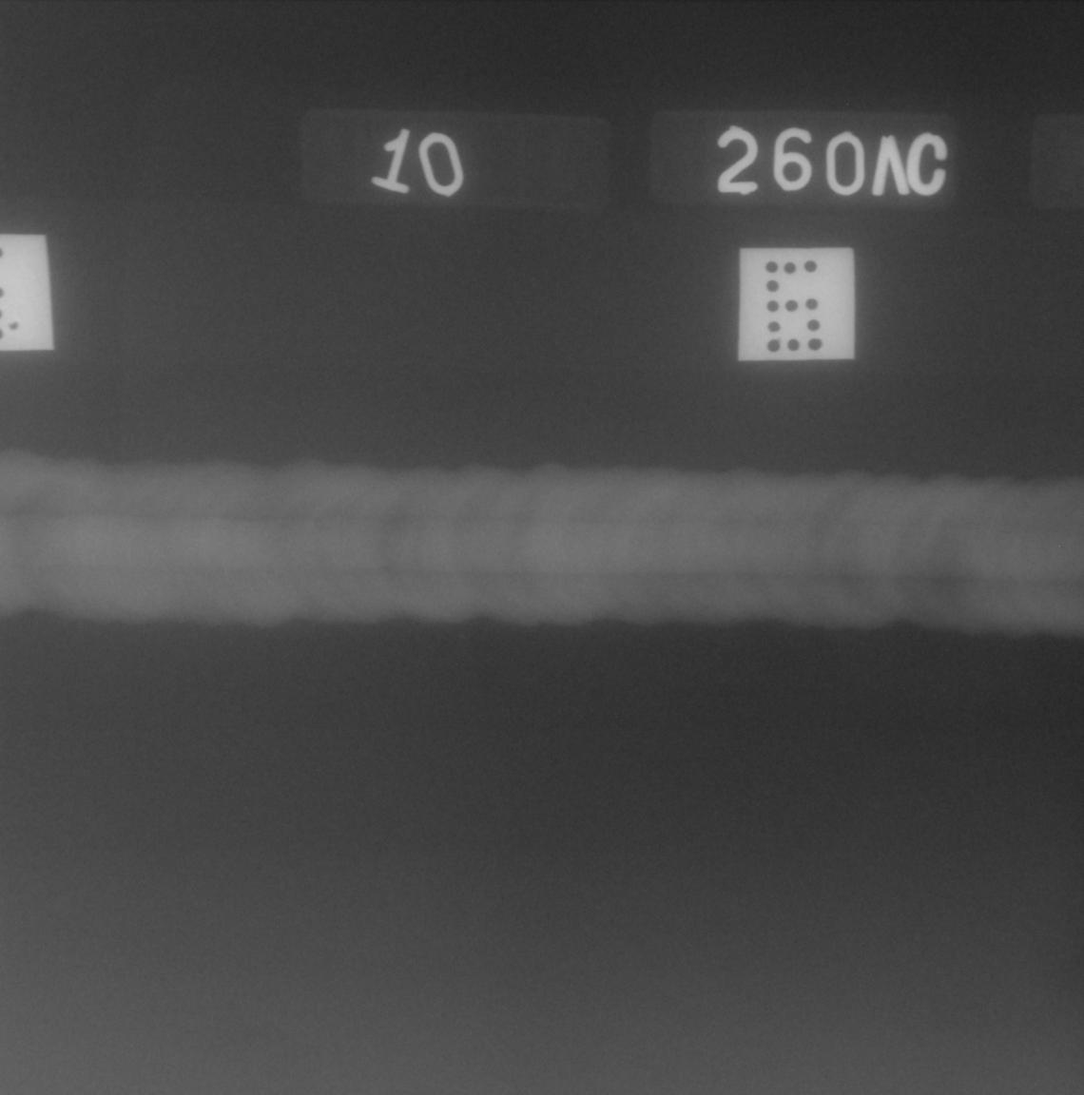Inclusion: (750, 511, 762, 525)
